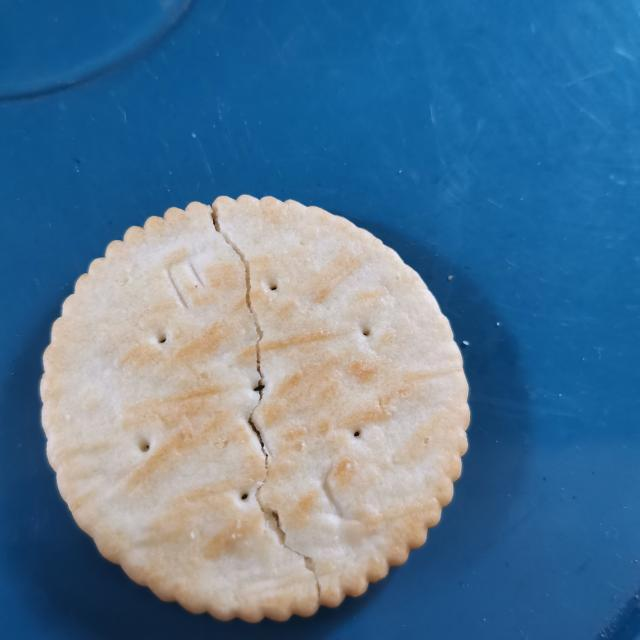Fracture: (192, 192, 349, 622)
